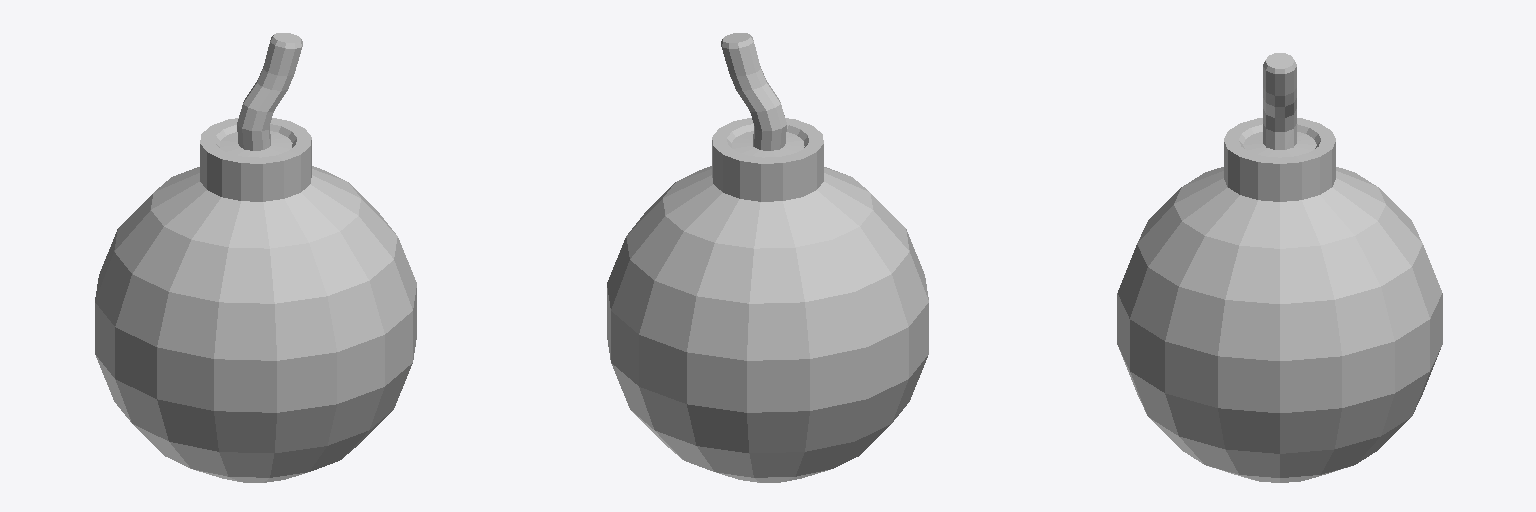
Rendered from boom_bomb1.obj.
3 renders of one model, left to right at view 1: azimuth 30°, elevation 25°; view 2: azimuth 150°, elevation 25°; view 3: azimuth 270°, elevation 25°, orthographic.
Visible parts, largest first — view 1: Sphere_Sphere.001; view 2: Sphere_Sphere.001; view 3: Sphere_Sphere.001.
Boxes of the visible parts, x1,y1,x2,y2 form: Sphere_Sphere.001: [95, 33, 416, 482]; Sphere_Sphere.001: [607, 33, 928, 482]; Sphere_Sphere.001: [1117, 53, 1442, 482].
Bounding box in the file's own units: 1.12 × 1.62 × 1.12.